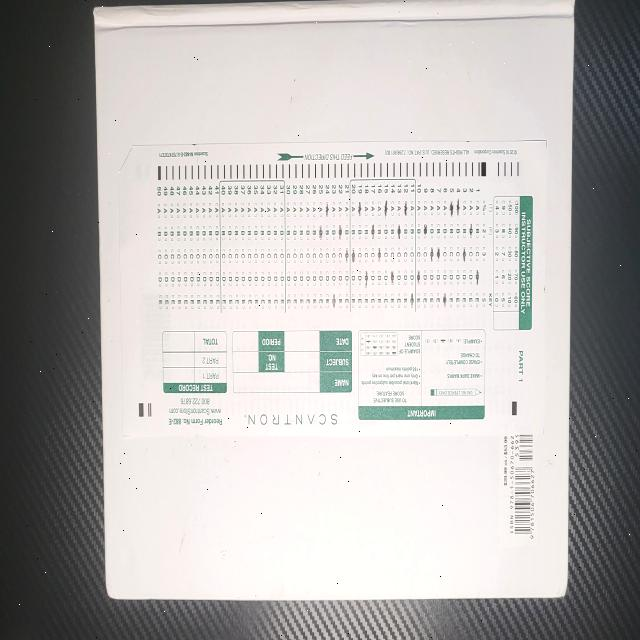scantron: (118, 139, 546, 437)
